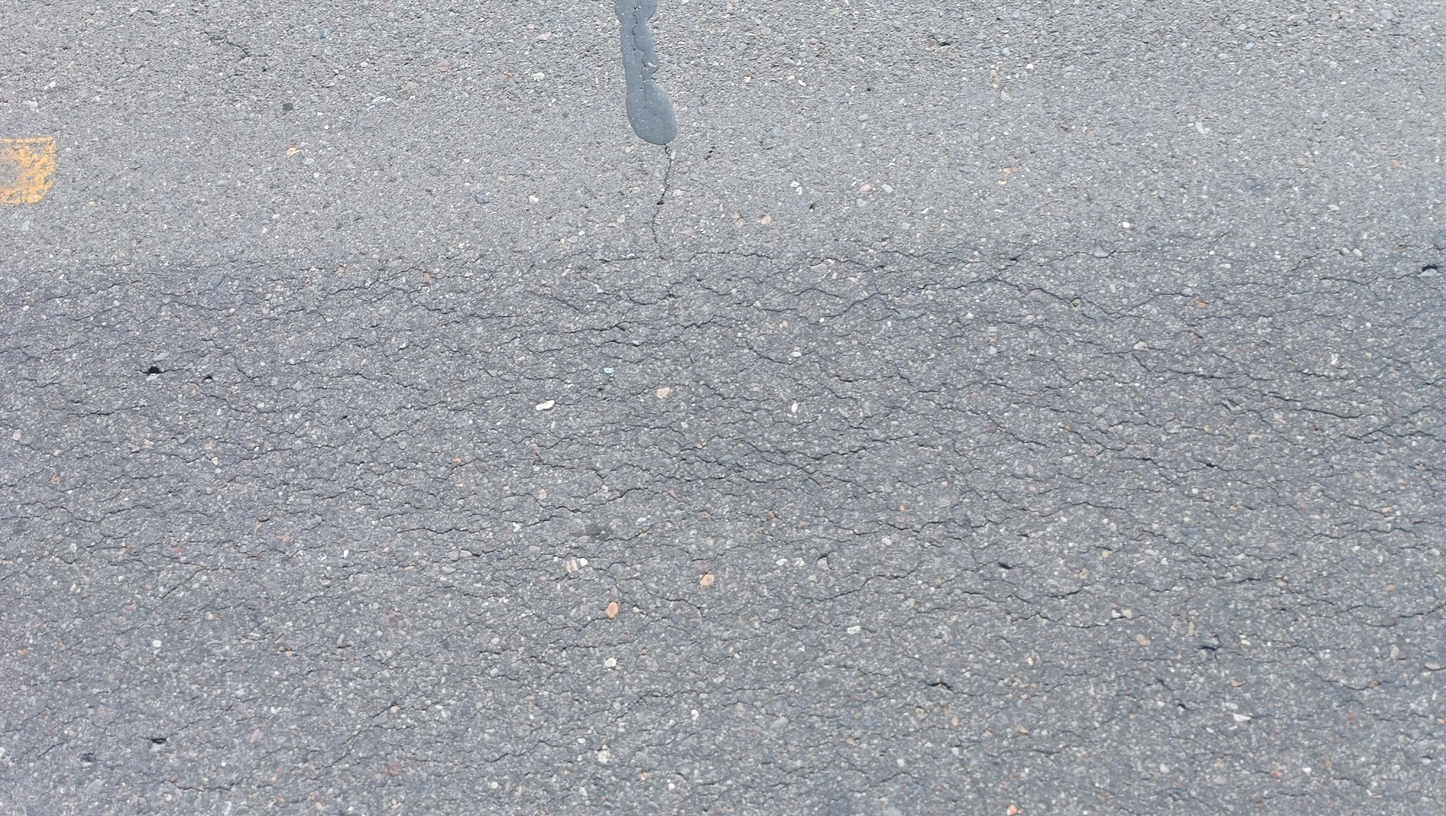GRIETA: (650, 145, 672, 242)
PIEL DE COCODRILO: (1, 235, 1444, 815)
